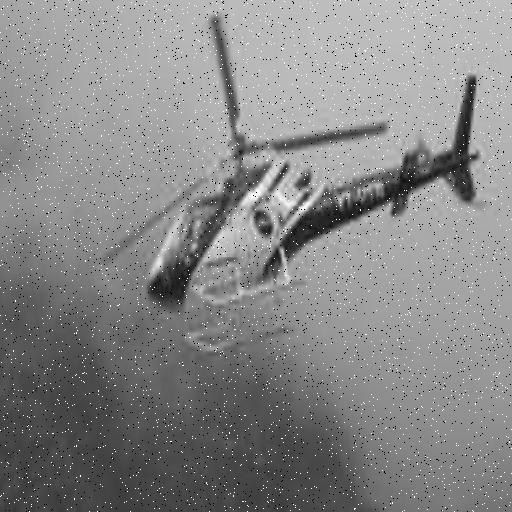helicopter: (105, 17, 480, 359)
